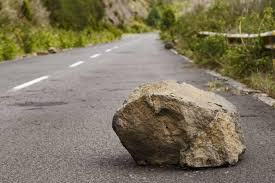obstacle: (111, 79, 247, 167)
